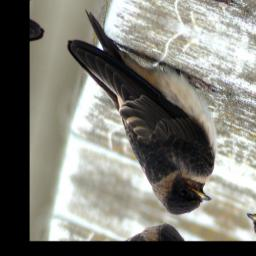Swallow: (42, 3, 240, 230)
